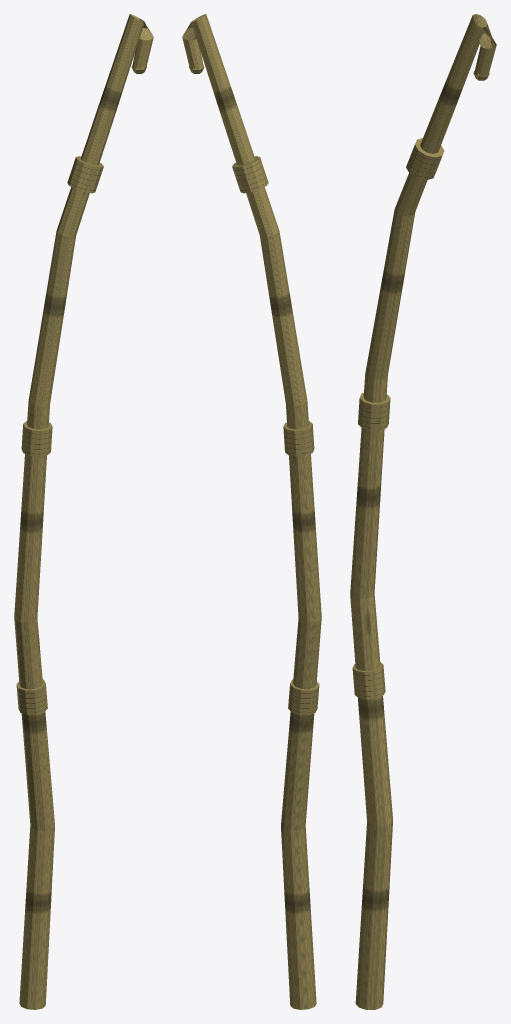
Rendered from gay-tre-cong.glb.
The picture shows the model from 3 angles, left to right: view 1: azimuth 30°, elevation 25°; view 2: azimuth 150°, elevation 25°; view 3: azimuth 330°, elevation 25°; orthographic projection. The views are drawn at different scales.
Visible parts, largest first — view 1: GayTre, GayNode_2, GayNode_1, GayNode_0; view 2: GayTre, GayNode_2, GayNode_1, GayNode_0; view 3: GayTre, GayNode_1, GayNode_0, GayNode_2.
Boxes of the visible parts, x1,y1,x2,y2 form: GayTre: (14, 14, 153, 1009); GayNode_2: (67, 156, 103, 193); GayNode_1: (21, 421, 52, 456); GayNode_0: (16, 679, 47, 715); GayTre: (182, 14, 321, 1009); GayNode_2: (232, 156, 268, 193); GayNode_1: (283, 421, 314, 456); GayNode_0: (288, 679, 319, 715); GayTre: (350, 14, 496, 1009); GayNode_1: (358, 393, 390, 430); GayNode_0: (352, 662, 385, 699); GayNode_2: (406, 138, 444, 180).
Bounding box in the file's own units: 0.203 × 1.37 × 0.0361.
1 material, 1 textured.
